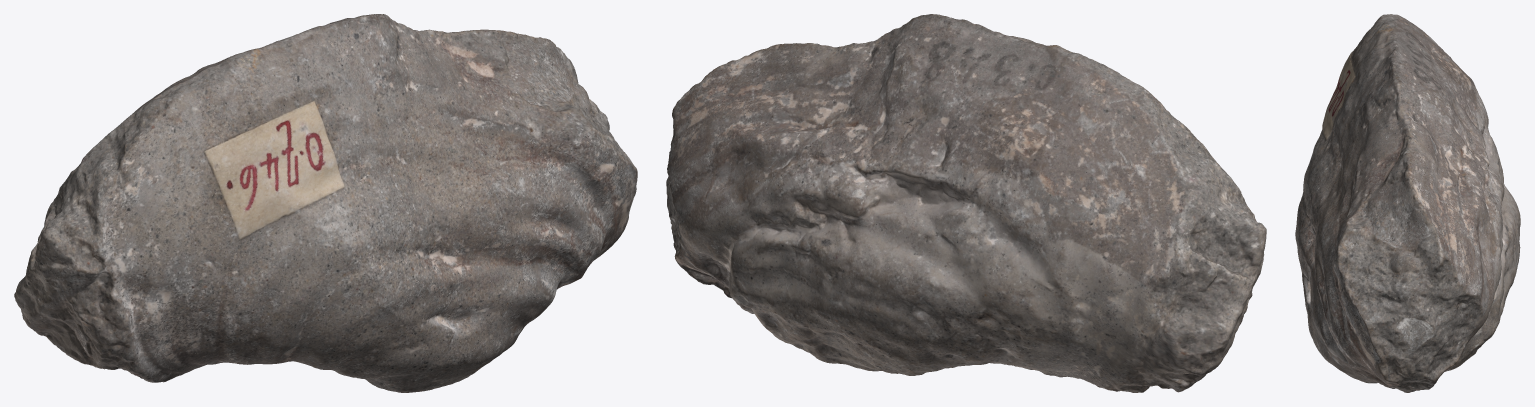
Rendered from EWS0011075.glb.
3 views of the same model, side by side, from view 1: azimuth 30°, elevation 25°; view 2: azimuth 150°, elevation 25°; view 3: azimuth 270°, elevation 25° (orthographic). The views are drawn at different scales.
Visible parts, largest first — view 1: input; view 2: input; view 3: input.
Part boxes in pixels (x1,y1,x2,y2): input: [14, 14, 637, 392]; input: [666, 14, 1266, 392]; input: [1295, 14, 1520, 392].
Size of the model in its own units: 0.0626 by 0.0382 by 0.0267.
Materials: 1 (1 with a texture image).
